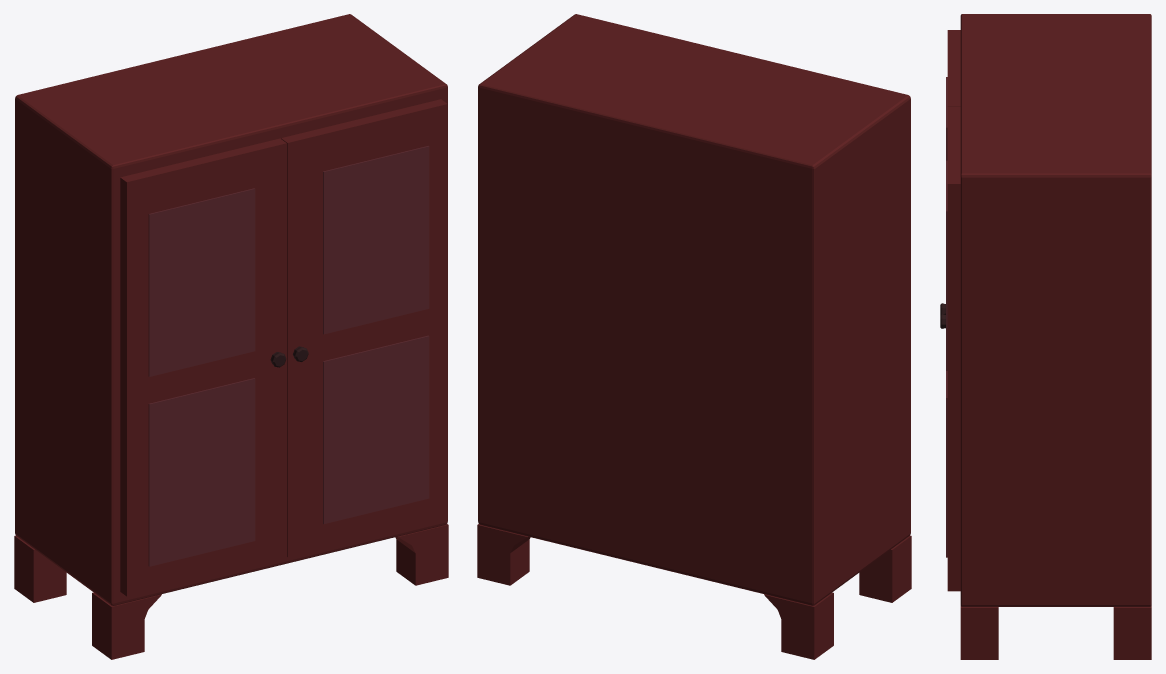
Rendered from ArmarioEsconde.fbx.
3 views of the same model, side by side, from view 1: azimuth 30°, elevation 25°; view 2: azimuth 150°, elevation 25°; view 3: azimuth 270°, elevation 25° (orthographic).
Parts seen in each view (by area): view 1: Armario, Porta2, Porta1, DetalhePorta4, DetalhePorta3, DetalhePorta, DetalhePorta1, Suporte; view 2: Armario, Suporte; view 3: Armario, Porta1, Suporte, Porta2, DetalhePorta1, DetalhePorta.
Part boxes in pixels (box(x1,y1,x2,y2)): Armario: box(15, 14, 447, 605); Porta2: box(120, 138, 286, 596); Porta1: box(281, 99, 447, 557); DetalhePorta4: box(148, 378, 255, 566); DetalhePorta3: box(148, 188, 255, 376); DetalhePorta: box(323, 335, 429, 524); DetalhePorta1: box(323, 146, 429, 334); Suporte: box(14, 524, 448, 659); Armario: box(478, 14, 910, 605); Suporte: box(477, 524, 911, 659); Armario: box(960, 14, 1151, 606); Porta1: box(947, 107, 960, 591); Suporte: box(960, 606, 1151, 659); Porta2: box(947, 30, 960, 106); DetalhePorta1: box(946, 160, 947, 370); DetalhePorta: box(946, 371, 947, 557).
Size of the model in its own units: 200 by 280 by 111.
